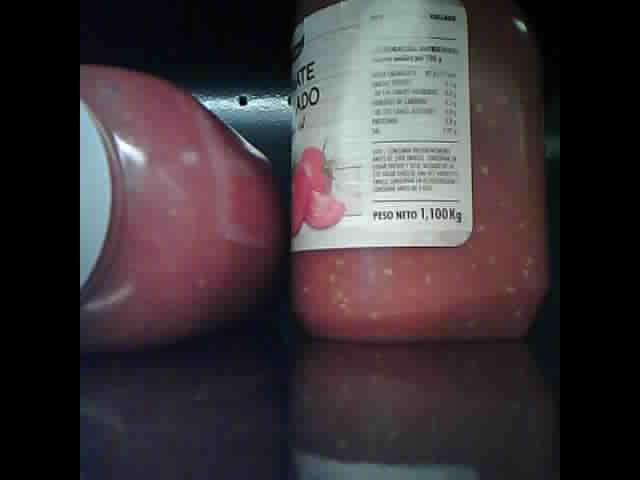tomate: (288, 8, 549, 341), (82, 53, 282, 355)
